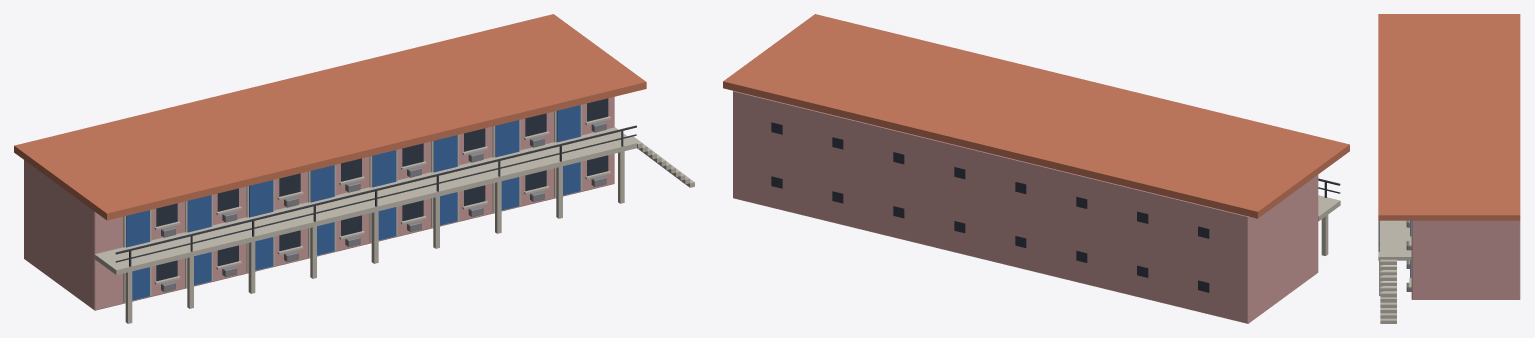
File: Motel.fbx
3 views of the same model, side by side, from view 1: azimuth 30°, elevation 25°; view 2: azimuth 150°, elevation 25°; view 3: azimuth 270°, elevation 25° (orthographic). The views are drawn at different scales.
Parts seen in each view (by area): view 1: Motel_Roof, Motel_Trim, Motel_Body, Motel_MotelDoors, Motel_Windows, Motel_Frame, Motel_RoofUnits; view 2: Motel_Body, Motel_Roof, Motel_Windows, Motel_Trim; view 3: Motel_Roof, Motel_Body, Motel_Trim, Motel_RoofUnits.
Part boxes in pixels (x1,y1,x2,y2): Motel_Roof: (14,14,646,220); Motel_Trim: (94,104,694,323); Motel_Body: (24,97,614,310); Motel_MotelDoors: (126,105,580,300); Motel_Windows: (156,98,608,281); Motel_Frame: (115,125,636,266); Motel_RoofUnits: (161,121,606,292); Motel_Body: (733,90,1318,323); Motel_Roof: (723,14,1349,218); Motel_Windows: (771,122,1209,292); Motel_Trim: (1318,195,1340,255); Motel_Roof: (1378,14,1520,220); Motel_Body: (1411,220,1520,299); Motel_Trim: (1378,220,1411,323); Motel_RoofUnits: (1406,220,1411,291).
Size of the model in its own units: 124 by 23.8 by 34.05.
